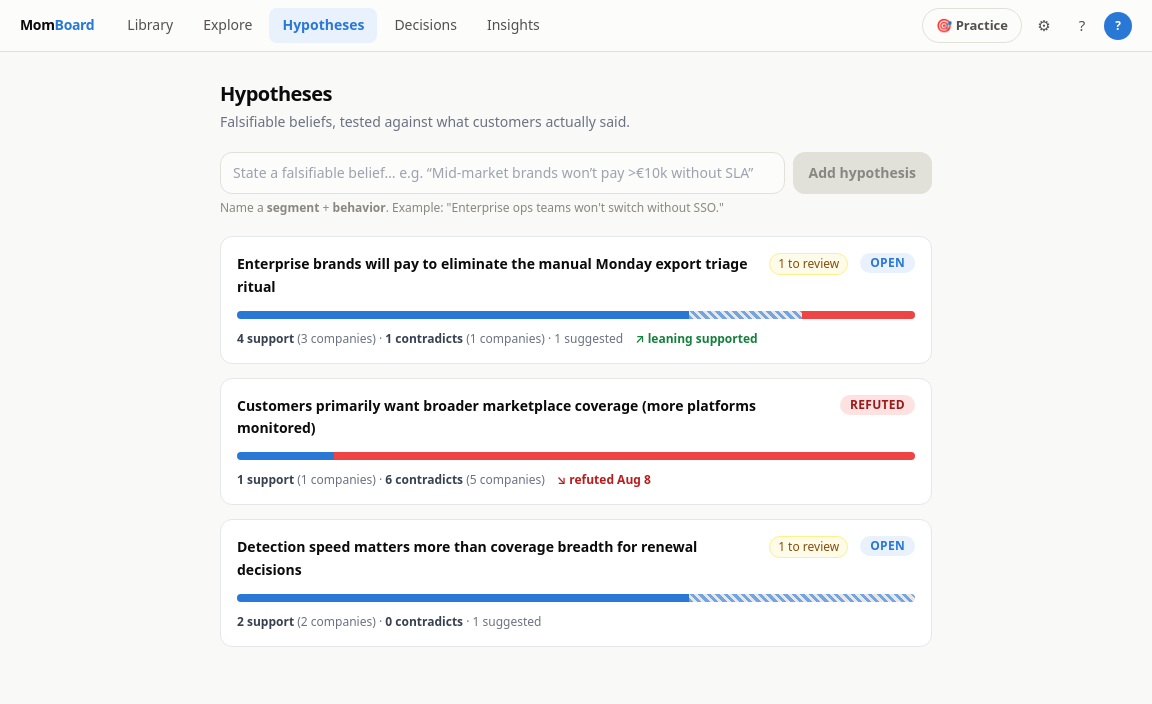
it: T28: Hypotheses board — evidence expansion › clicking a card expands it to show evidence detail
Click the text "Enterprise brands will pay" at (492, 264), box [237,254,748,296]
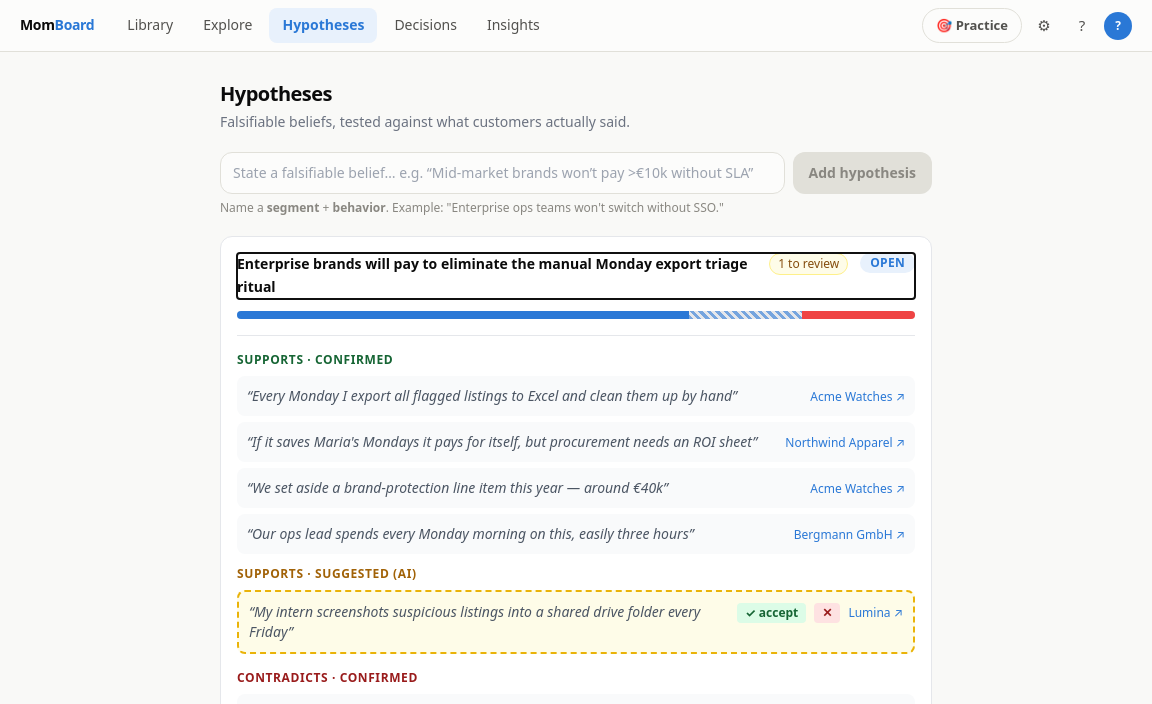
Check: the heading "Supports · confirmed" is shown, box [237,350,393,368]
